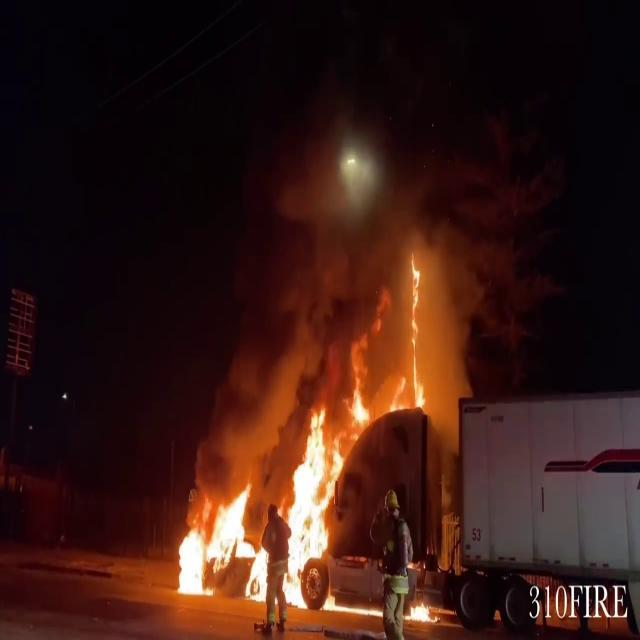Fire: (164, 385, 369, 618), (406, 253, 428, 407)
Smoke: (235, 144, 506, 425)
